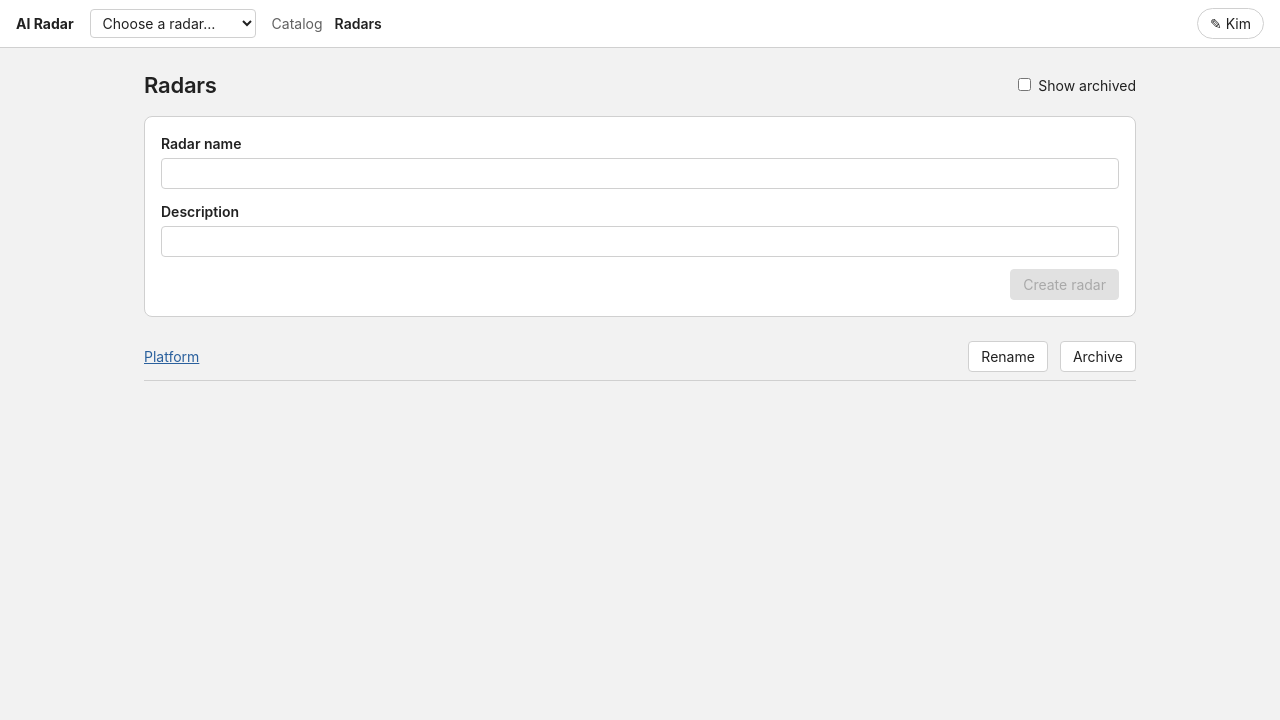
Test: RadarListPage › shows toast when rename fails
The width and height of the screenshot is (1280, 720).
Click the button with aria-label "Rename Platform".
click(1008, 356)  # box [968,340,1048,372]
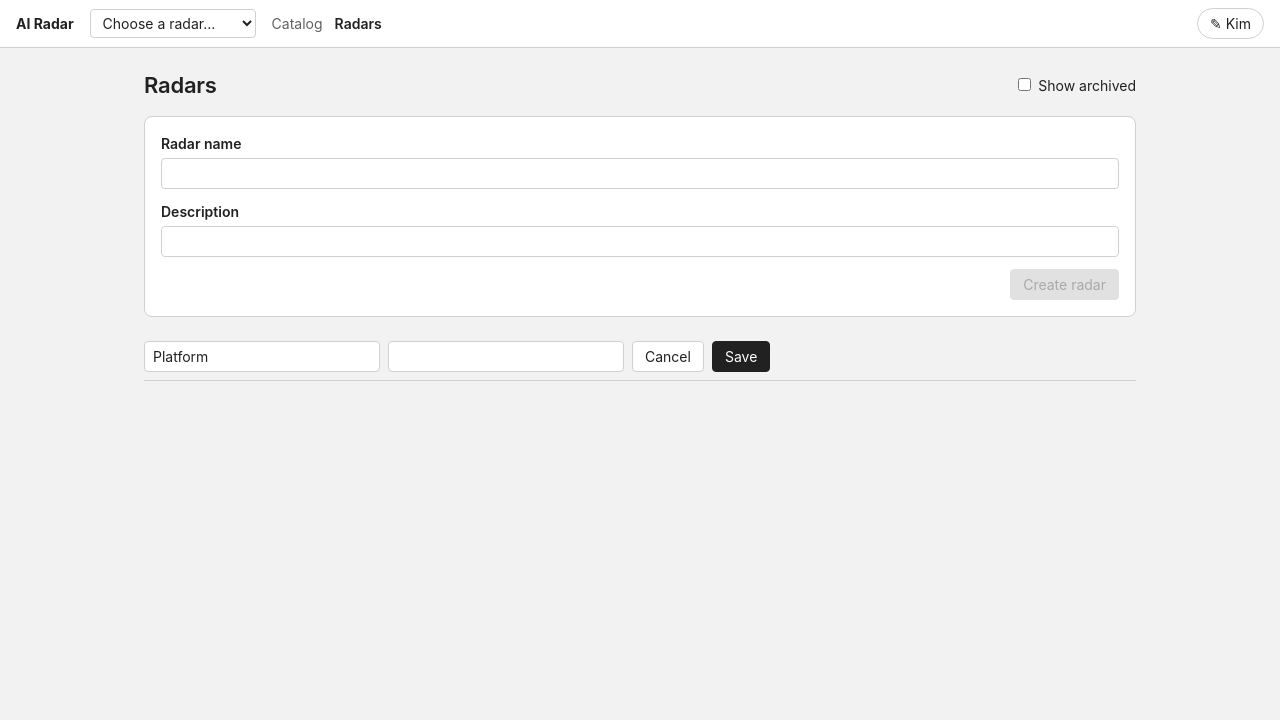
Replace the text in the field named "New name for Platform" with "Core" at (262, 356), box [144,340,380,372]
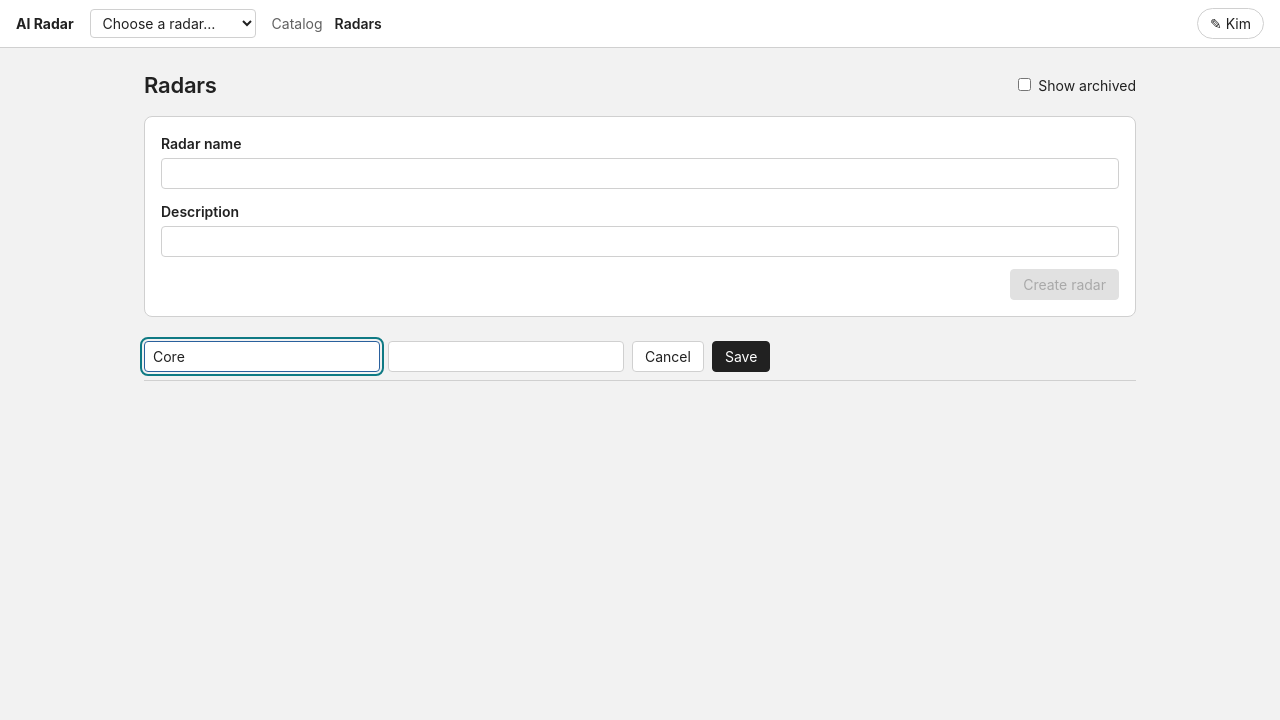
Click the button "Save".
click(741, 356)  # box [712,340,770,372]
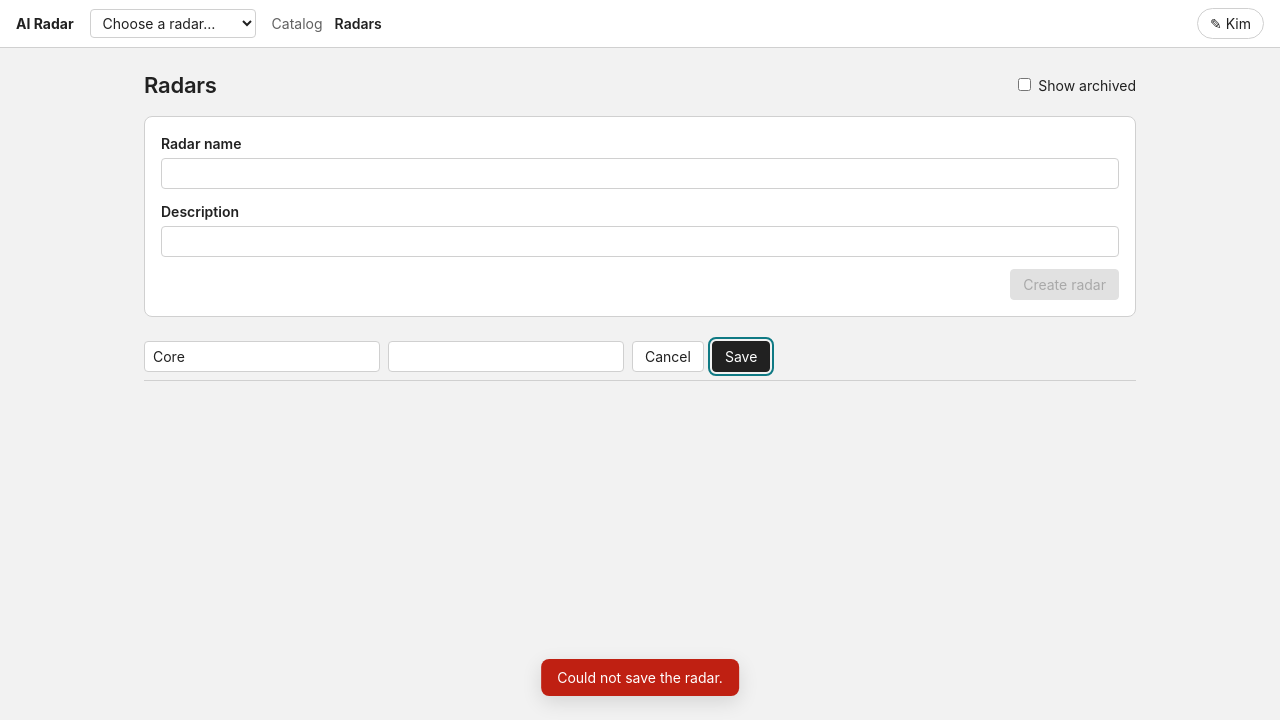
Check: the message shows "Could not save the radar", box [557,669,723,686]
